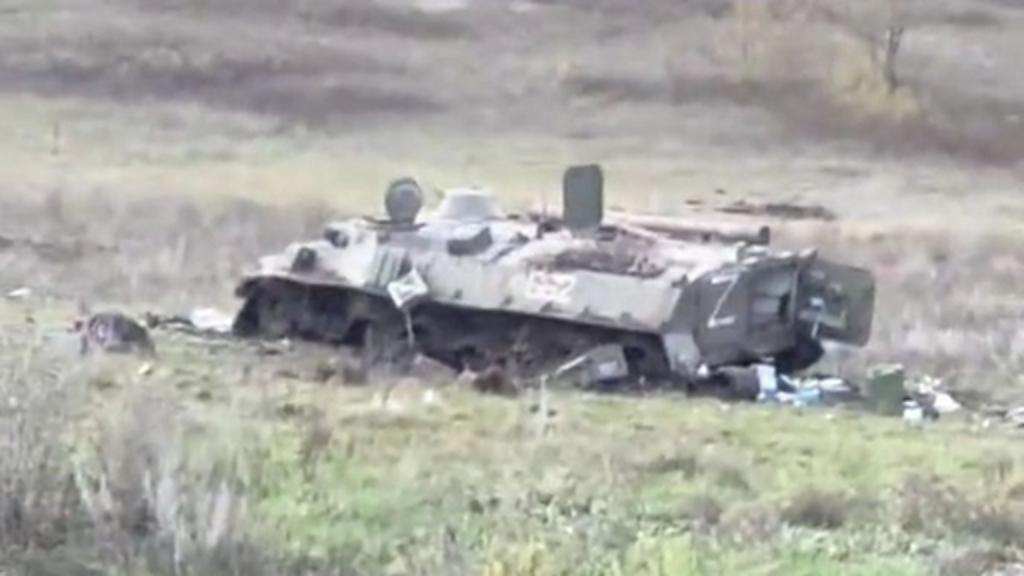APC-IFV: (220, 150, 874, 408)
